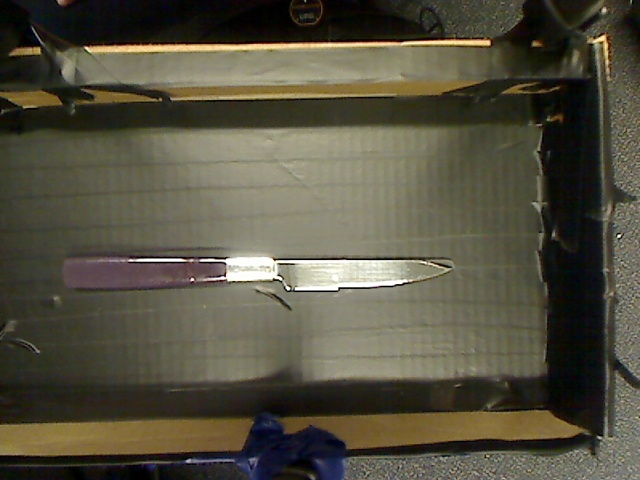knife: (43, 229, 471, 305)
